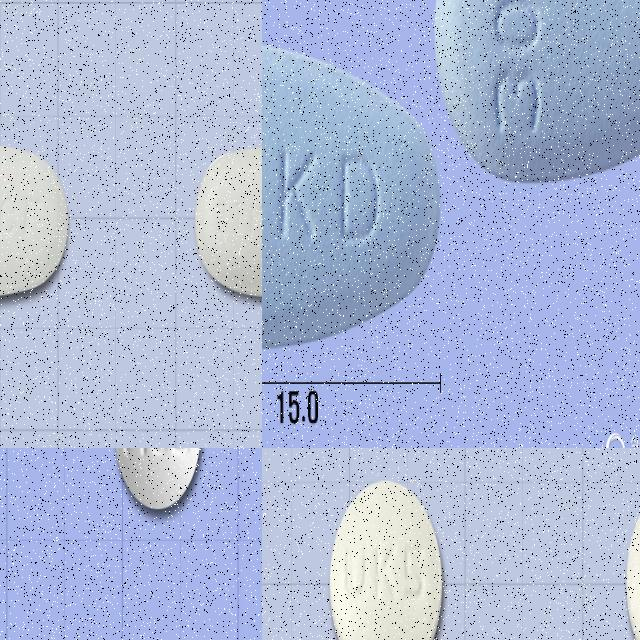Levofcin: (115, 448, 203, 511)
Teva Azathioprine Tab: (262, 37, 440, 350), (435, 0, 640, 185)
Unifixime Cap: (329, 477, 444, 640)
Zyvox Tab: (0, 142, 69, 296), (196, 149, 262, 294)
